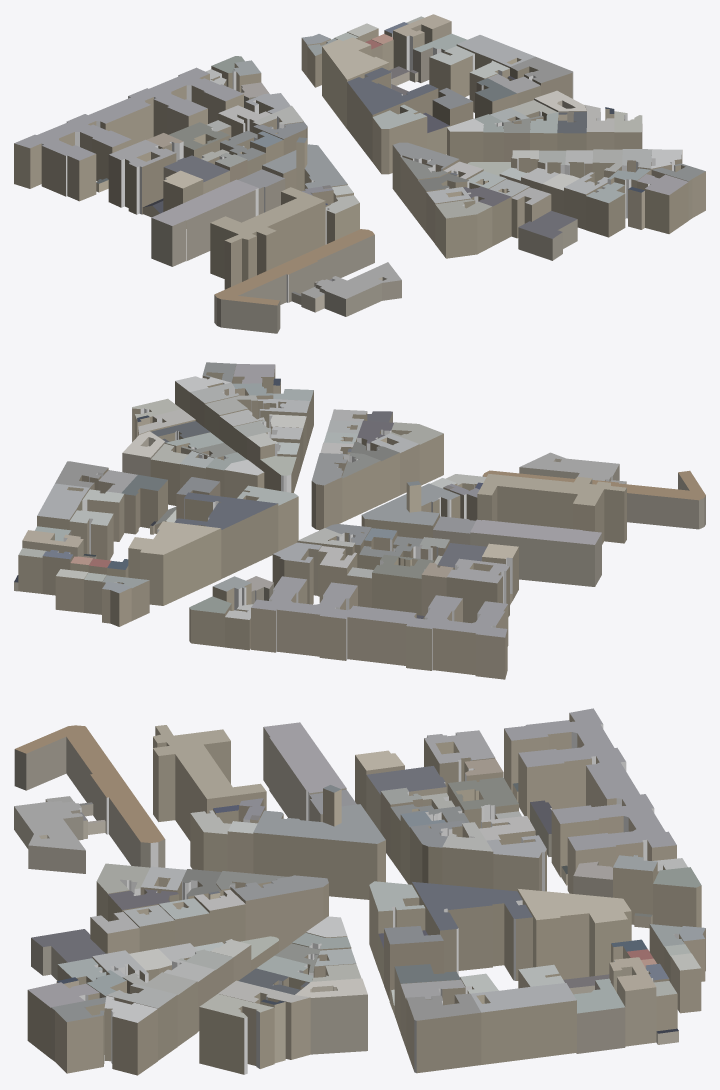
The picture shows the model from 3 angles, top to bottom: view 1: azimuth 30°, elevation 25°; view 2: azimuth 150°, elevation 25°; view 3: azimuth 270°, elevation 25°; orthographic projection. The views are drawn at different scales.
Parts seen in each view (by area): view 1: tuile; view 2: tuile; view 3: tuile.
Part boxes in pixels (x1=…): tuile: x1=14, y1=14, x2=705, y2=333; tuile: x1=14, y1=362, x2=705, y2=679; tuile: x1=14, y1=708, x2=705, y2=1075.
Size of the model in its own units: 291 by 39.95 by 270.
